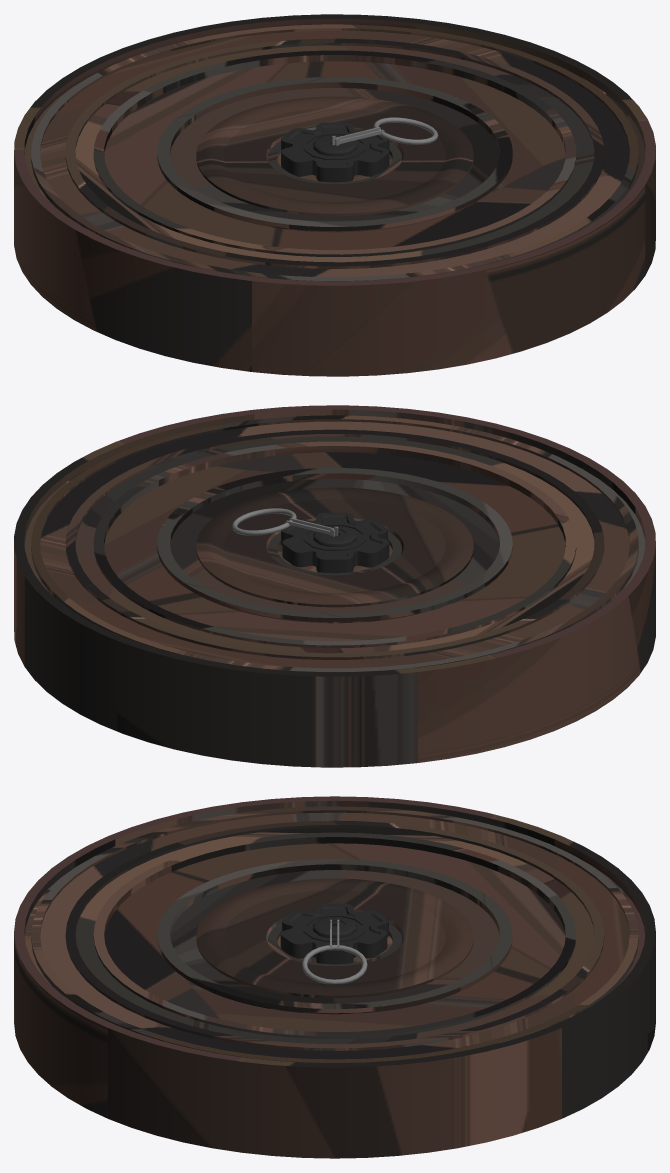
The model's file is minePowerup.fbx.
3 views of the same model, one above another, from view 1: azimuth 30°, elevation 25°; view 2: azimuth 150°, elevation 25°; view 3: azimuth 270°, elevation 25° (orthographic).
Parts seen in each view (by area): view 1: LandMine_low; view 2: LandMine_low; view 3: LandMine_low.
Part boxes in pixels (x1,y1,x2,y2): LandMine_low: [14, 14, 655, 376]; LandMine_low: [14, 405, 655, 767]; LandMine_low: [14, 796, 655, 1158].
Bounding box in the file's own units: 81.39 × 14.45 × 81.39.
Materials: 3 (1 with a texture image).
